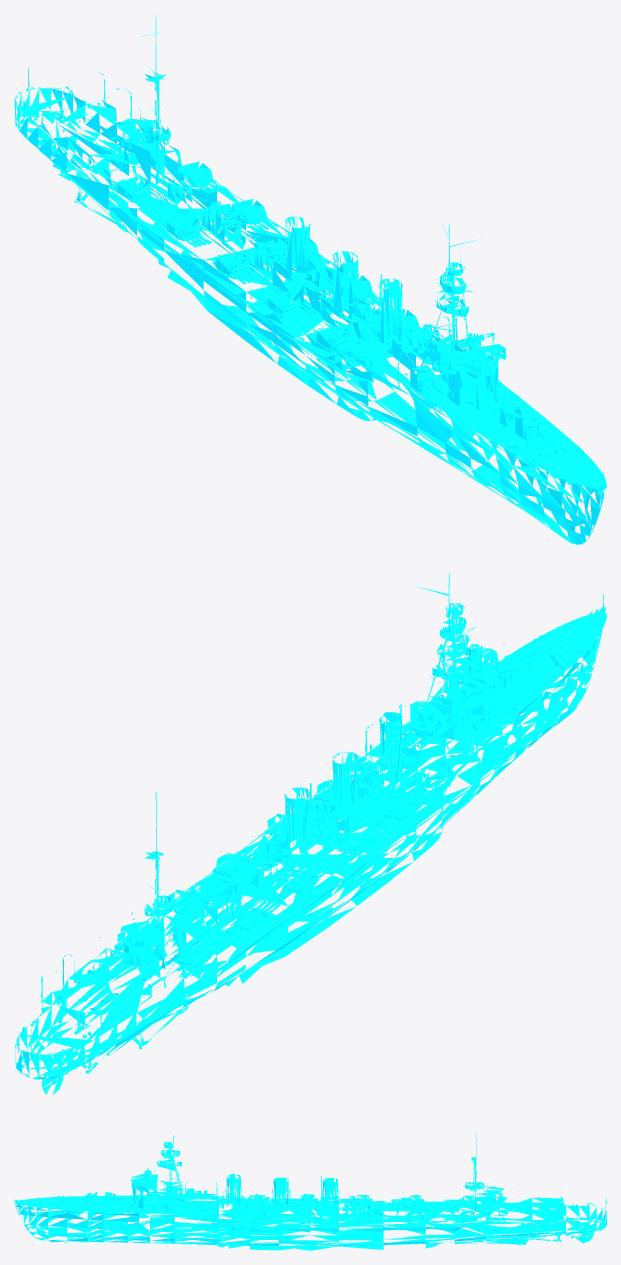
The model's file is Kitakami.glb.
The picture shows the model from 3 angles, top to bottom: view 1: azimuth 30°, elevation 25°; view 2: azimuth 150°, elevation 25°; view 3: azimuth 270°, elevation 25°; orthographic projection. The views are drawn at different scales.
Bounding box in the file's own units: 1.16 × 2.42 × 10.84.
